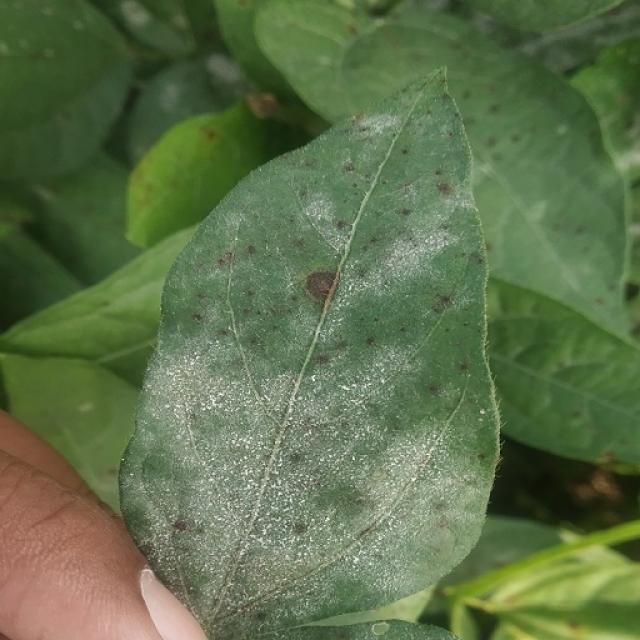Blackgram: (120, 70, 498, 639)
Powdery_Mildew: (244, 226, 449, 454), (242, 368, 398, 519), (164, 332, 292, 489), (222, 195, 347, 347), (335, 198, 462, 324), (284, 341, 409, 439), (346, 453, 451, 563), (183, 255, 287, 358), (358, 160, 467, 248), (229, 145, 339, 231), (364, 402, 455, 499), (229, 481, 311, 559), (250, 448, 328, 530), (260, 509, 335, 579), (187, 363, 255, 427), (390, 218, 464, 274), (219, 448, 282, 512), (297, 181, 352, 248), (356, 258, 414, 315), (302, 208, 355, 265), (354, 214, 412, 259), (352, 109, 409, 142), (335, 545, 384, 582), (419, 440, 454, 482), (138, 450, 168, 493), (359, 528, 397, 561), (232, 457, 262, 490), (335, 375, 372, 397), (523, 198, 550, 225), (350, 555, 364, 569), (557, 125, 569, 136), (308, 374, 318, 385), (479, 408, 487, 415)
